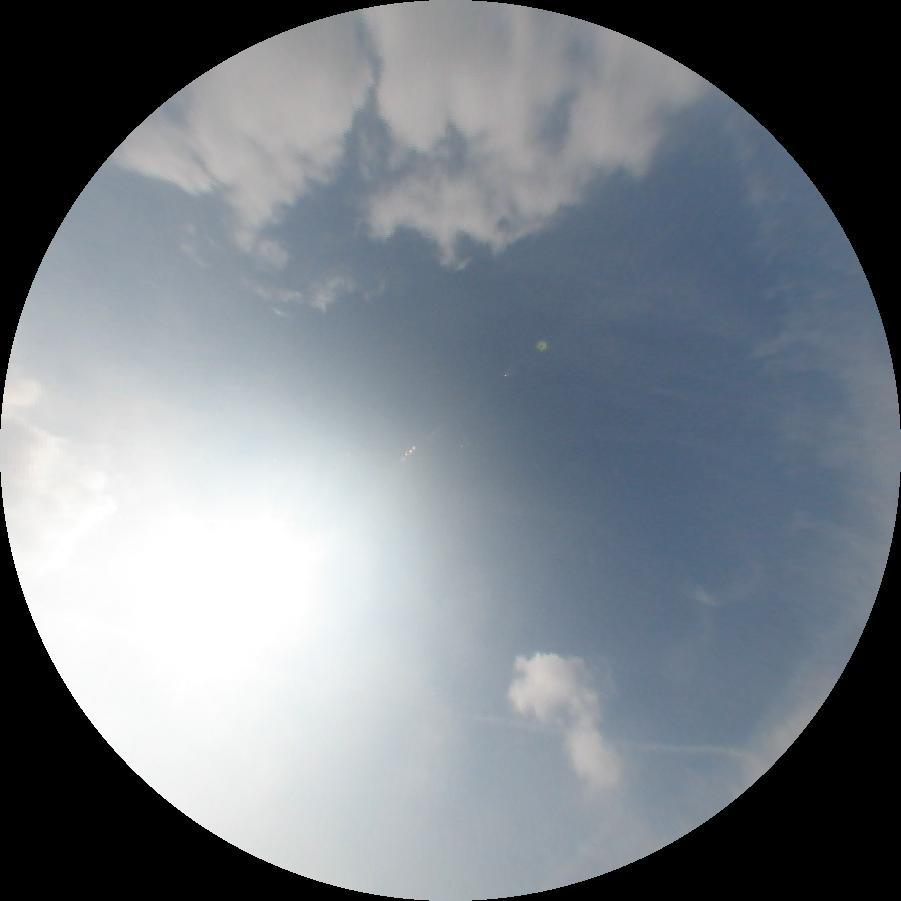contrail old: (478, 719, 751, 765)
sun: (78, 516, 331, 710)
